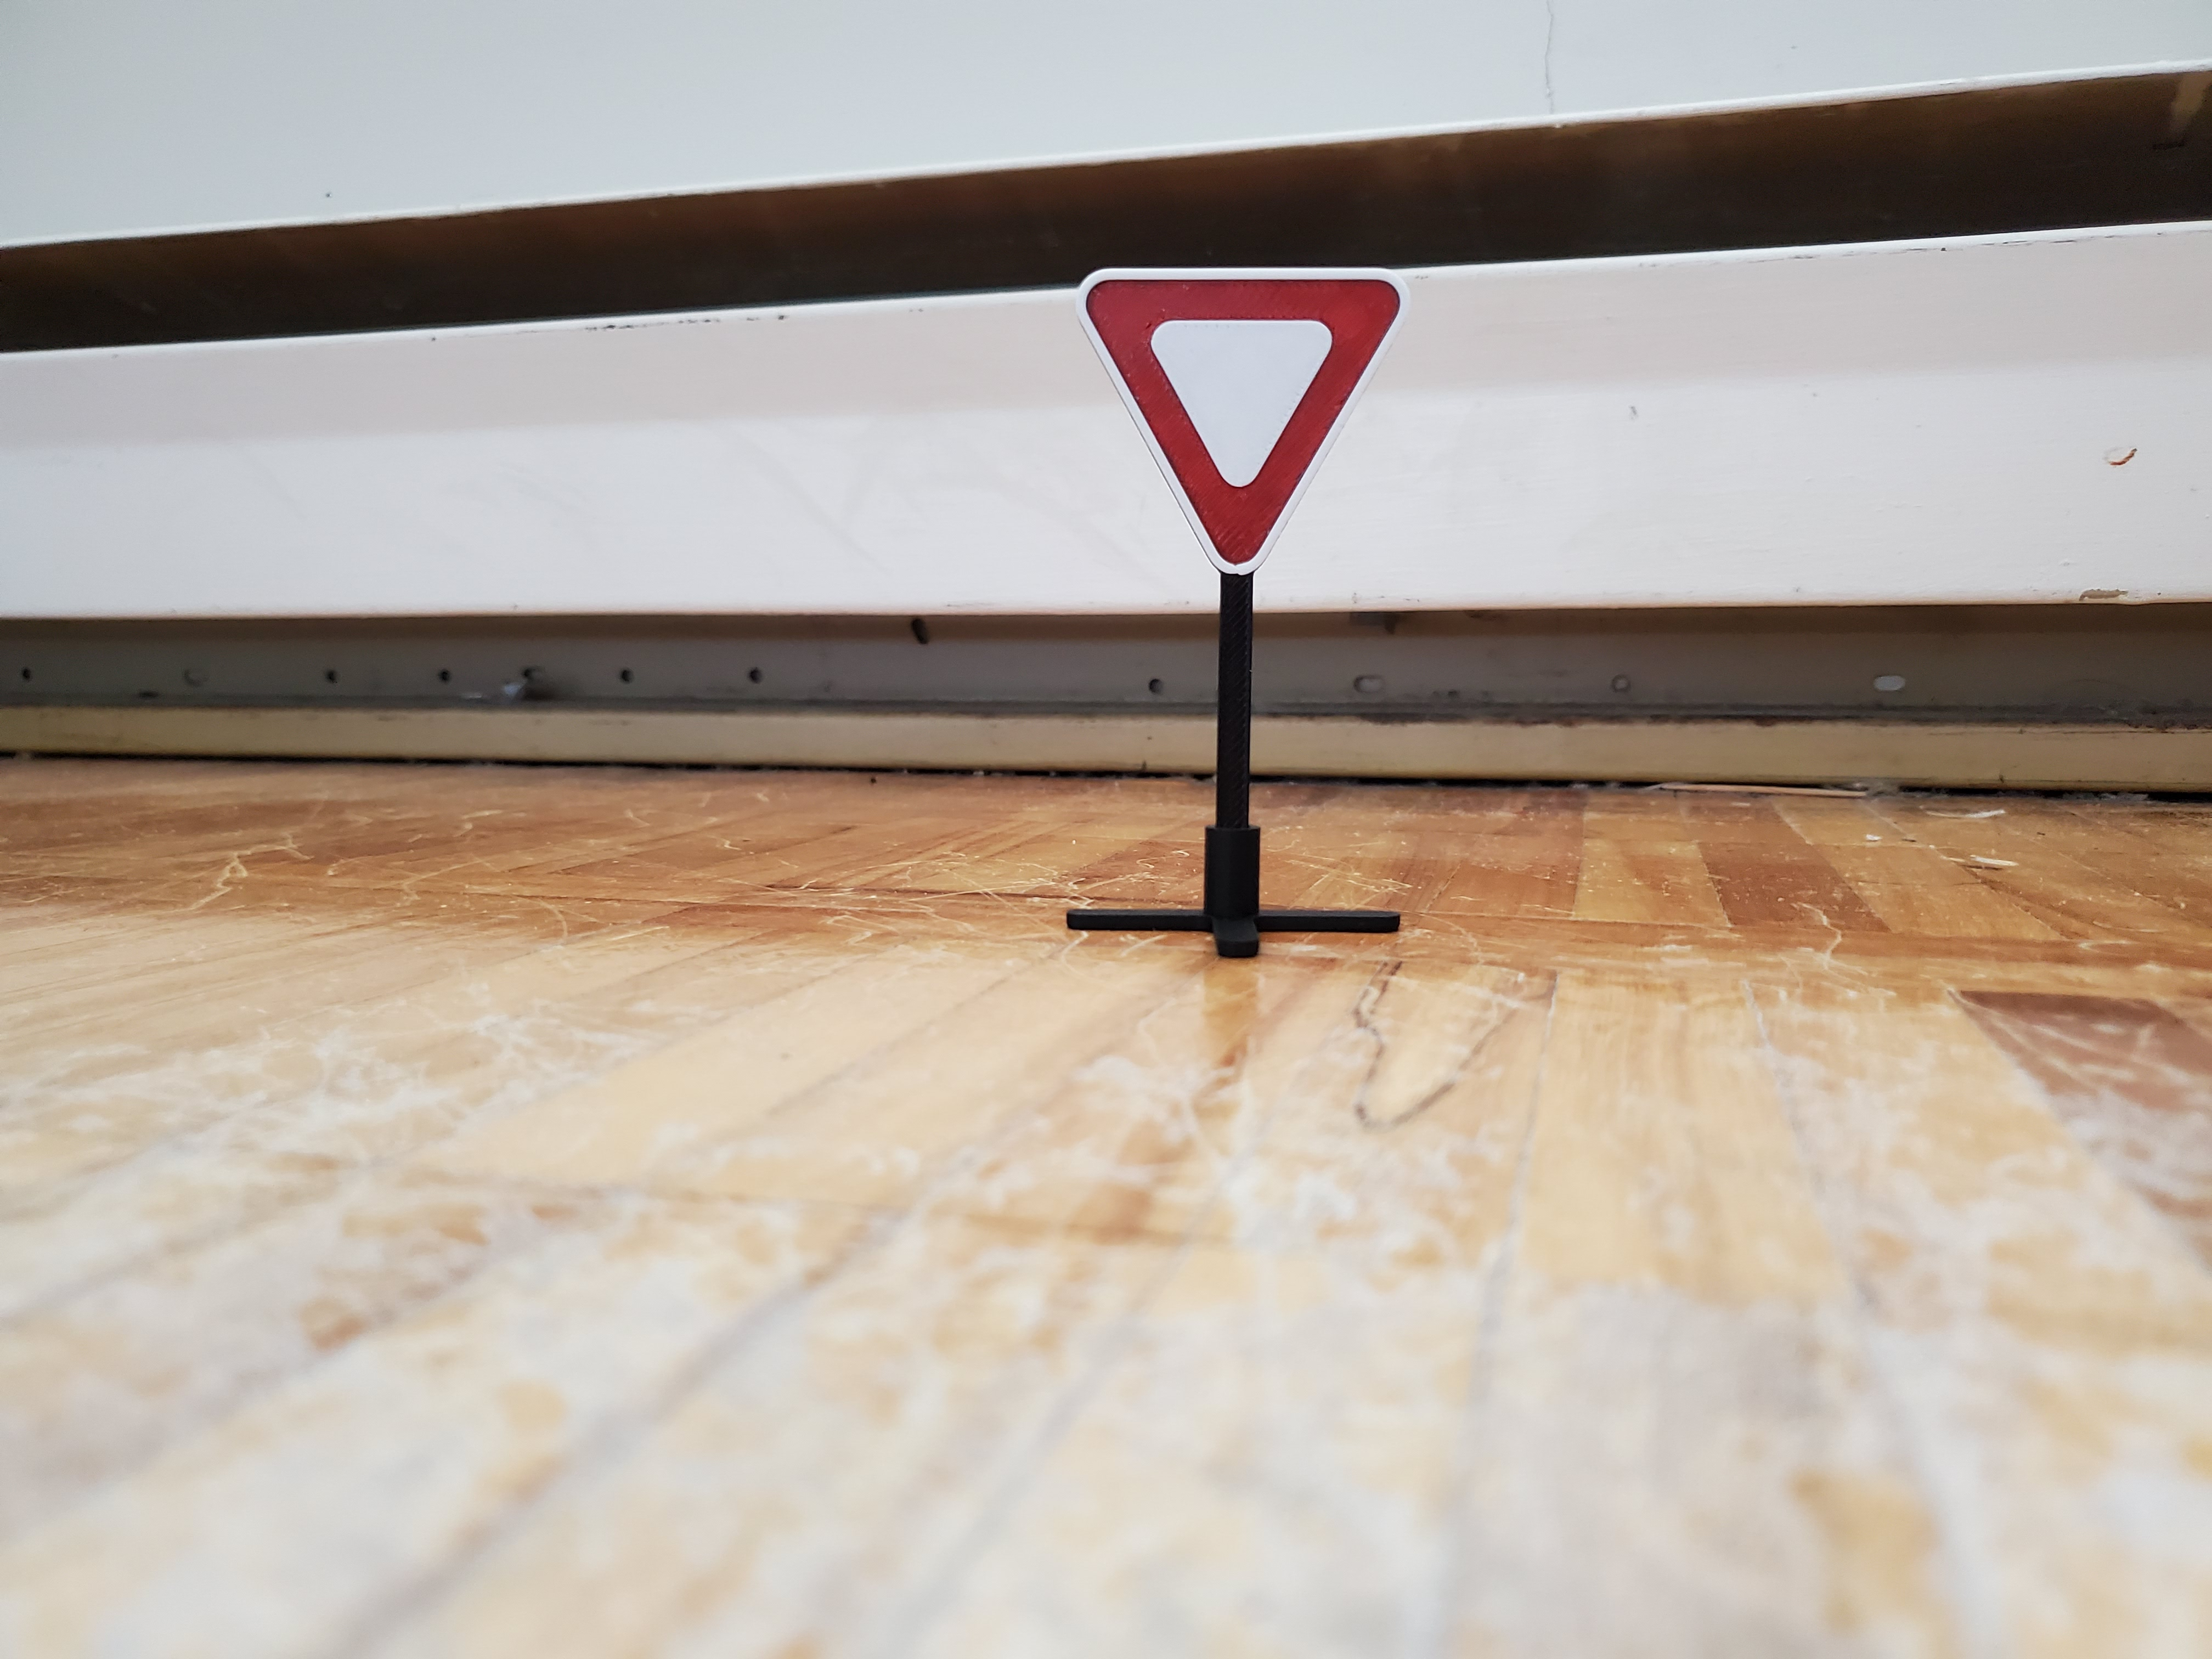sign_yield: (1010, 225, 1440, 988)
